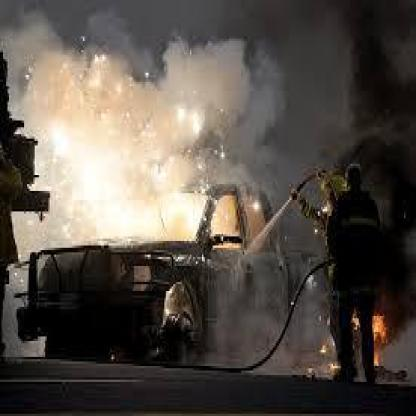smoke: (14, 13, 224, 182)
